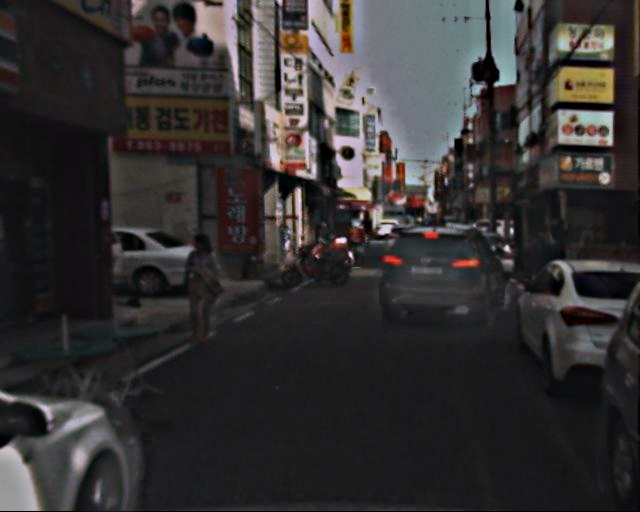person: (182, 232, 231, 343), (529, 224, 568, 311)
